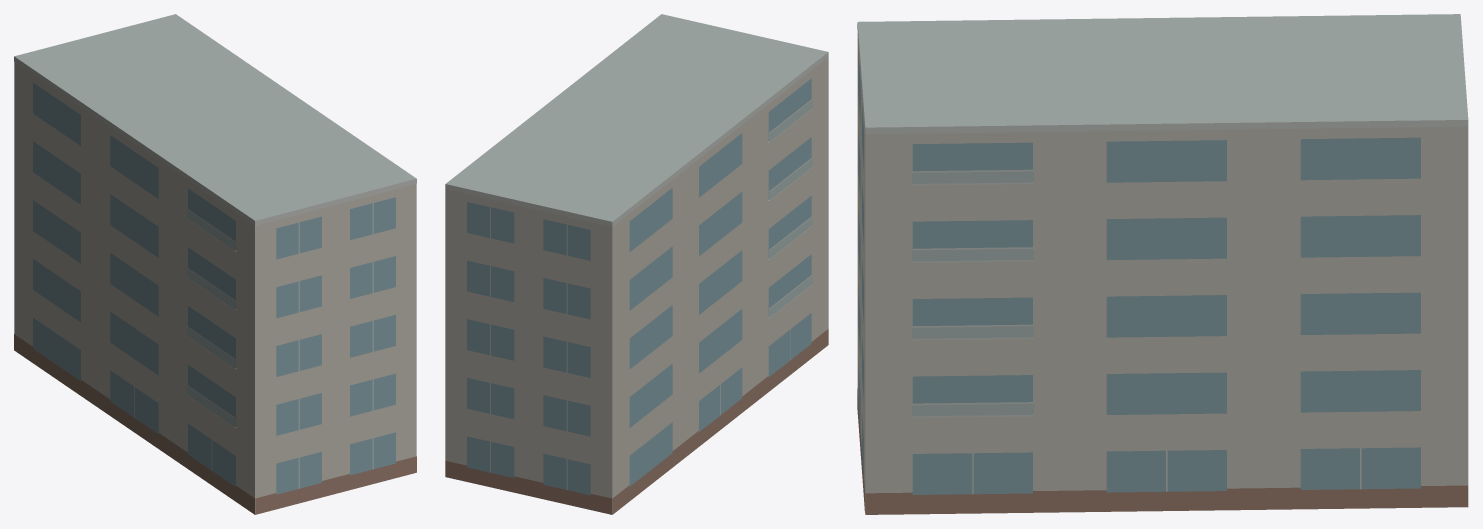
The model's file is survey-upis-32875743.glb.
The picture shows the model from 3 angles, left to right: view 1: azimuth 30°, elevation 25°; view 2: azimuth 150°, elevation 25°; view 3: azimuth 270°, elevation 25°; orthographic projection. The views are drawn at different scales.
Visible parts, largest first — view 1: survey-upis-32875743.tmp; view 2: survey-upis-32875743.tmp; view 3: survey-upis-32875743.tmp.
Boxes of the visible parts, x1,y1,x2,y2 form: survey-upis-32875743.tmp: (14, 14, 416, 514); survey-upis-32875743.tmp: (445, 14, 828, 514); survey-upis-32875743.tmp: (857, 14, 1468, 514).
Size of the model in its own units: 8.82 by 14 by 20.02.
